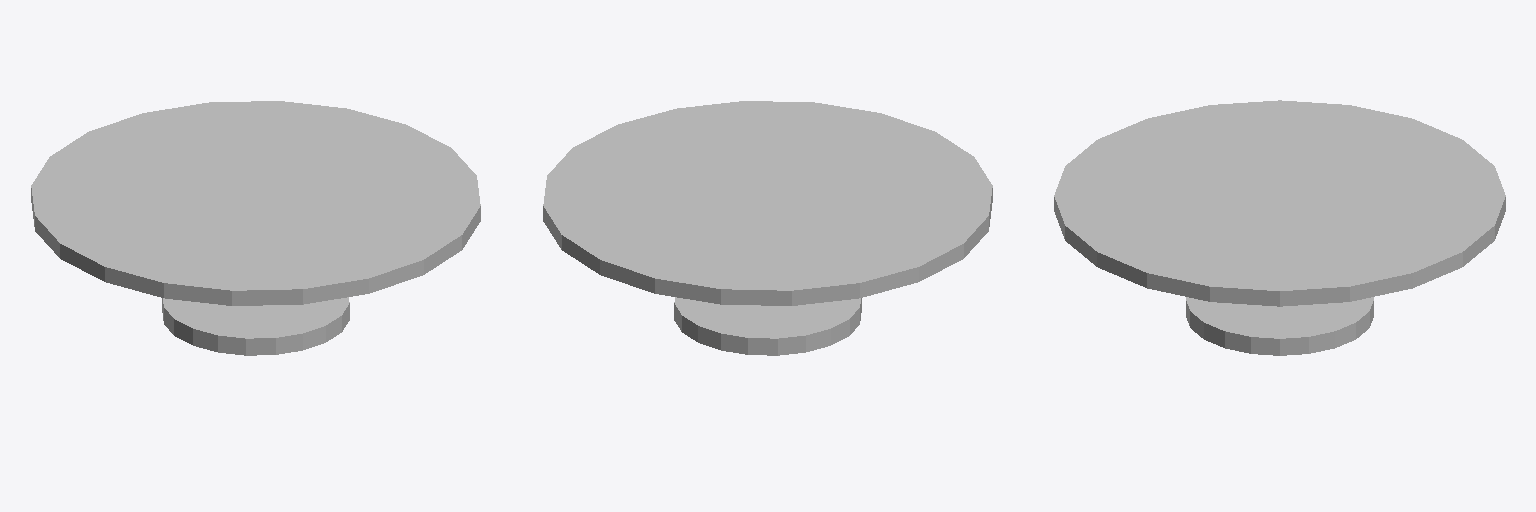
Rendered from table.obj.
The picture shows the model from 3 angles: view 1: azimuth 30°, elevation 25°; view 2: azimuth 150°, elevation 25°; view 3: azimuth 270°, elevation 25°; orthographic projection.
Parts seen in each view (by area): view 1: pCylinder6; view 2: pCylinder6; view 3: pCylinder6.
Boxes of the visible parts, x1=… form: pCylinder6: x1=31, y1=101, x2=480, y2=355; pCylinder6: x1=543, y1=101, x2=992, y2=355; pCylinder6: x1=1054, y1=100, x2=1505, y2=355.
Bounding box in the file's own units: 240 × 70.5 × 240.